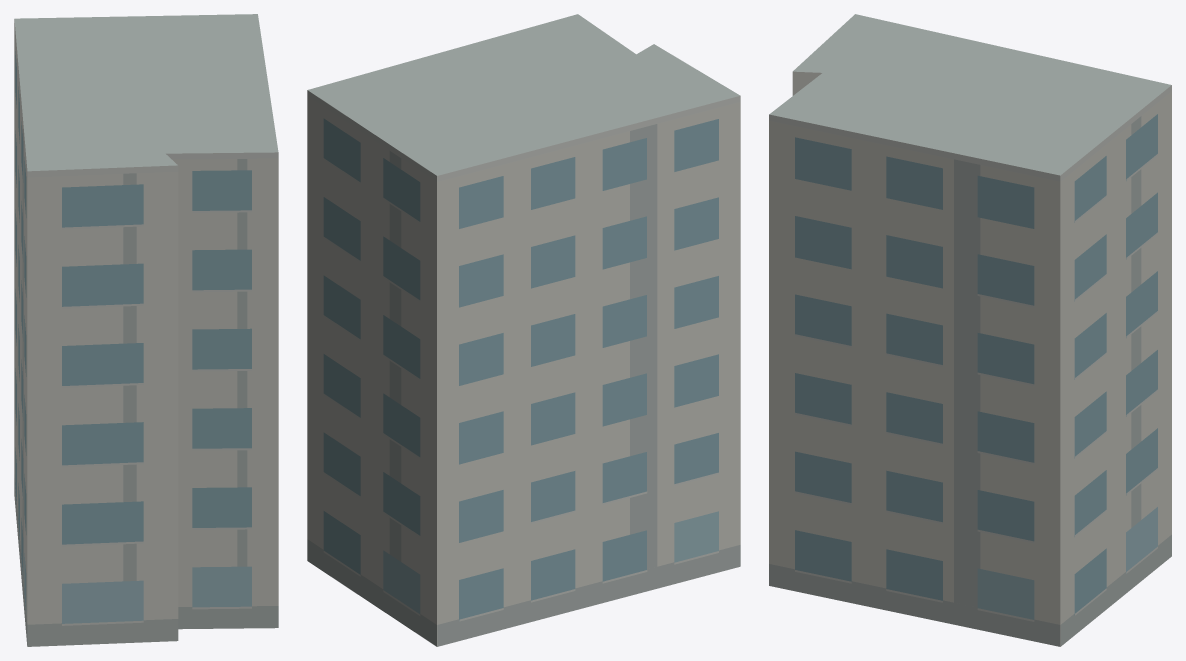
Rendered from survey-upis-32886589.glb.
The picture shows the model from 3 angles, left to right: view 1: azimuth 30°, elevation 25°; view 2: azimuth 150°, elevation 25°; view 3: azimuth 270°, elevation 25°; orthographic projection.
Visible parts, largest first — view 1: survey-upis-32886589.tmp; view 2: survey-upis-32886589.tmp; view 3: survey-upis-32886589.tmp.
Boxes of the visible parts, x1=… form: survey-upis-32886589.tmp: x1=14, y1=14, x2=278, y2=646; survey-upis-32886589.tmp: x1=307, y1=14, x2=740, y2=646; survey-upis-32886589.tmp: x1=769, y1=14, x2=1171, y2=646.
Size of the model in its own units: 13.83 by 18.8 by 14.57.
